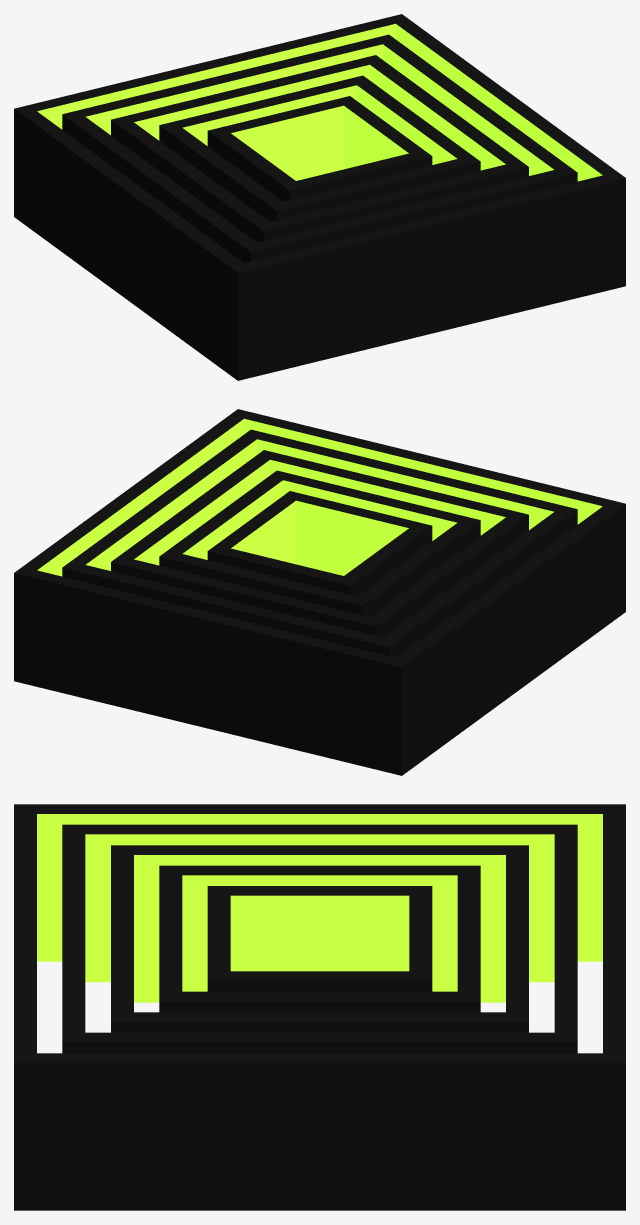
3 renders of one model, top to bottom at view 1: azimuth 30°, elevation 25°; view 2: azimuth 150°, elevation 25°; view 3: azimuth 270°, elevation 25°, orthographic. The views are drawn at different scales.
Parts seen in each view (by area): view 1: box_0, box_1, box_2, box_4, box_3; view 2: box_0, box_1, box_2, box_4, box_3; view 3: box_0, box_1, box_2, box_3, box_4.
Part boxes in pixels (x1,y1,x2,y2): box_0: (14, 14, 625, 380); box_1: (62, 34, 577, 262); box_2: (111, 55, 528, 242); box_4: (207, 96, 432, 201); box_3: (159, 75, 480, 221); box_0: (14, 409, 625, 775); box_1: (62, 429, 577, 657); box_2: (111, 450, 528, 637); box_4: (207, 491, 432, 596); box_3: (159, 470, 480, 616); box_0: (14, 804, 625, 1210); box_1: (62, 824, 577, 1053); box_2: (111, 845, 528, 1032); box_3: (159, 865, 480, 1012); box_4: (207, 886, 432, 991).
Bounding box in the file's own units: 1.2 × 0.32 × 1.2.
